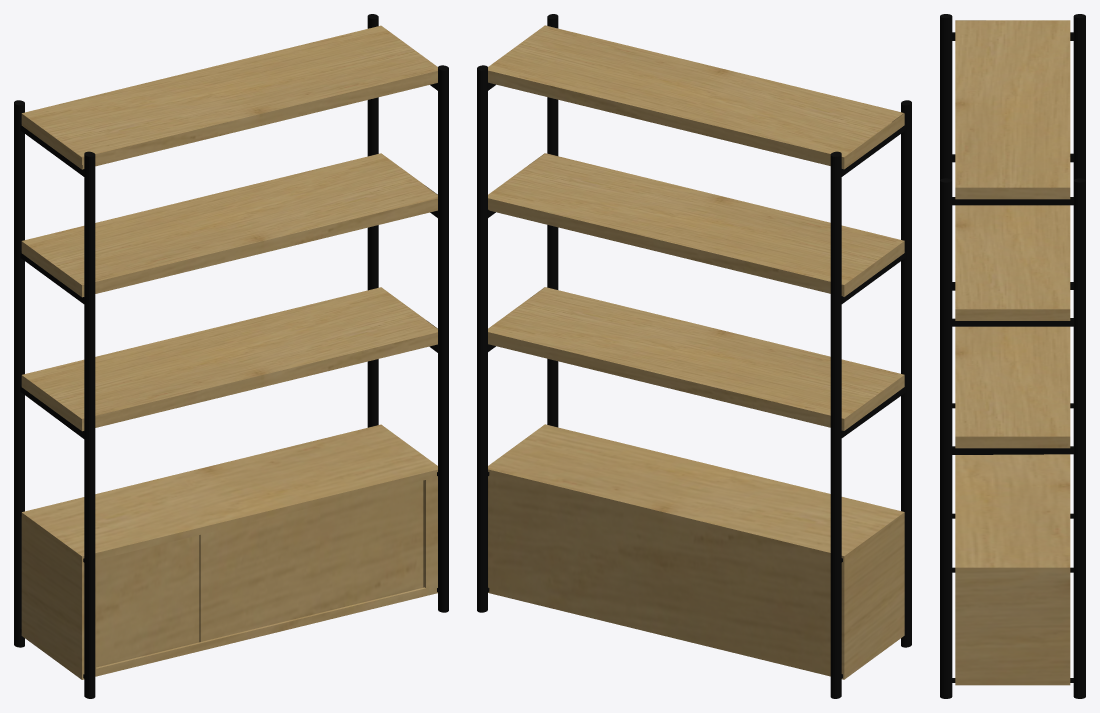
The model's file is Shelf2.0.fbx.
3 renders of one model, left to right at view 1: azimuth 30°, elevation 25°; view 2: azimuth 150°, elevation 25°; view 3: azimuth 270°, elevation 25°, orthographic. The views are drawn at different scales.
Visible parts, largest first — view 1: Shelf; view 2: Shelf; view 3: Shelf.
Part boxes in pixels (x1,y1,x2,y2): Shelf: [14, 14, 448, 698]; Shelf: [477, 14, 911, 698]; Shelf: [940, 14, 1085, 698].
Bounding box in the file's own units: 194 × 277 × 71.06.
